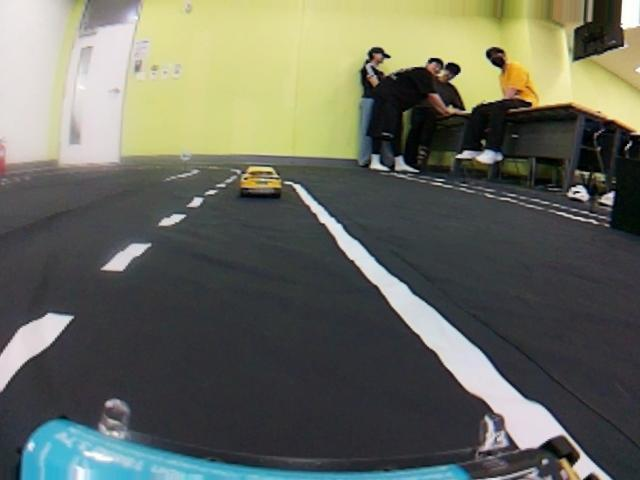car: (238, 163, 290, 198)
straight: (8, 241, 640, 478)
